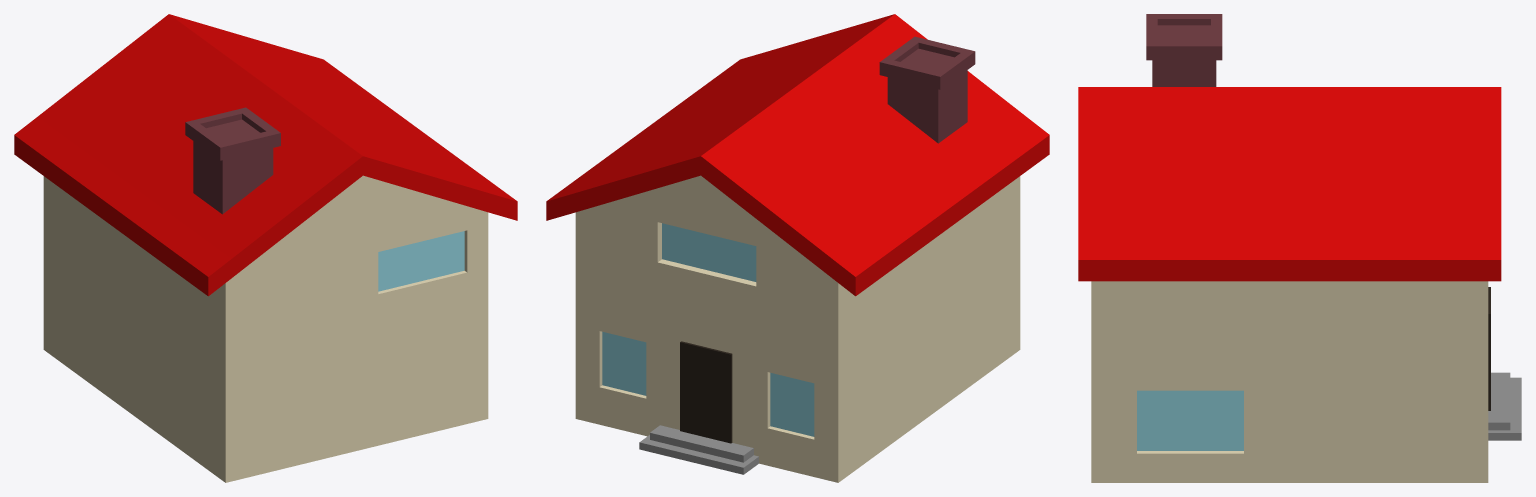
The model's file is RedRoof.fbx.
3 views of the same model, side by side, from view 1: azimuth 30°, elevation 25°; view 2: azimuth 150°, elevation 25°; view 3: azimuth 270°, elevation 25° (orthographic). The views are drawn at different scales.
Parts seen in each view (by area): view 1: RedRoof; view 2: RedRoof; view 3: RedRoof.
Boxes of the visible parts, <box> form: RedRoof: <box>14,14,517,482</box>; RedRoof: <box>546,14,1049,482</box>; RedRoof: <box>1078,14,1521,482</box>.
Bounding box in the file's own units: 589 × 567 × 671.
